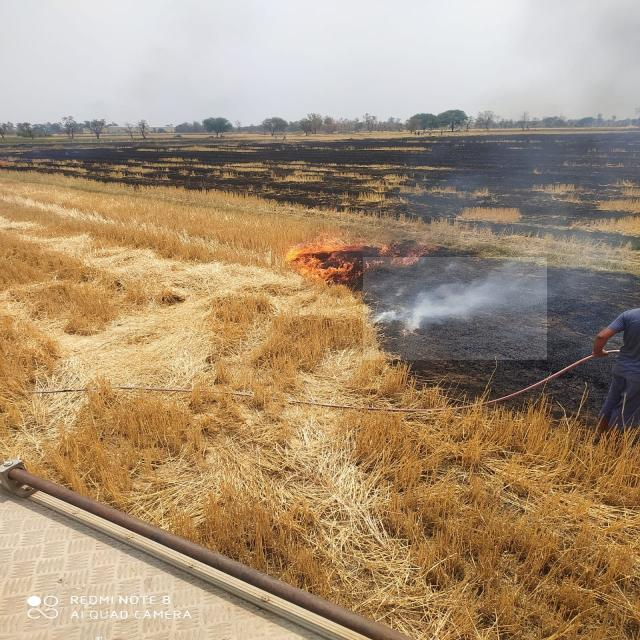Smoke: (363, 257, 548, 360)
